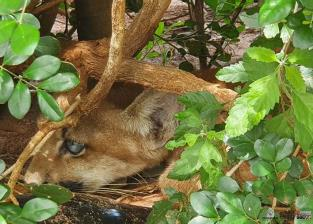OncaParda: (24, 50, 271, 209)
